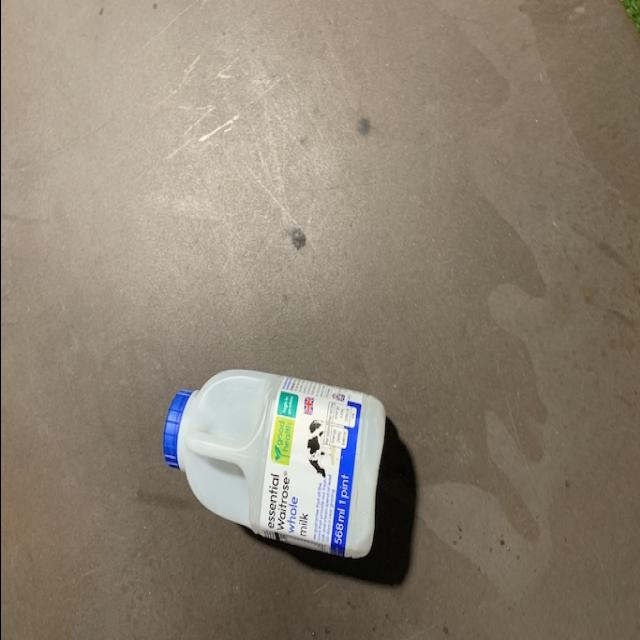litter: (160, 370, 388, 564)
